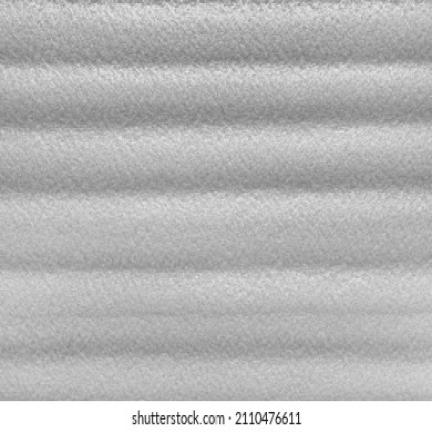besi_tidak_karat: (1, 0, 431, 397)
